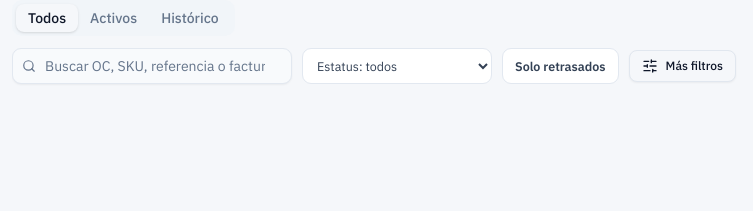
Test: EmbarquesFiltros › clic en 'Más filtros' abre el panel (aria-expanded + controles visibles)
Click the button "Más filtros" at (682, 66), box top-left (629, 50), bottom-right (736, 82)
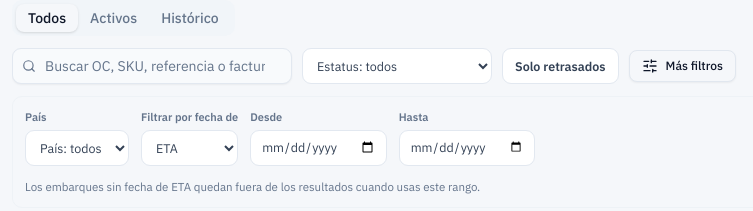
Check: the dropdown labelled "País" is shown, box top-left (25, 130), bottom-right (129, 166)
Check: the dropdown labelled "Filtrar por fecha de" is shown, box top-left (141, 130), bottom-right (238, 166)
Check: the date field labelled "Desde" is shown, box top-left (250, 130), bottom-right (387, 166)
